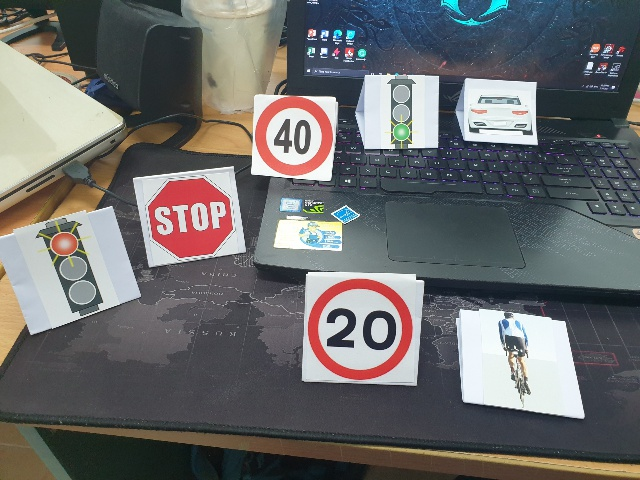Car: (467, 93, 534, 138)
Cyclist: (486, 311, 542, 411)
Green Light: (378, 78, 422, 148)
Limit 20: (308, 284, 413, 378)
Limit 40: (253, 98, 333, 178)
Red Light: (33, 219, 108, 314)
Stop: (145, 180, 236, 259)
